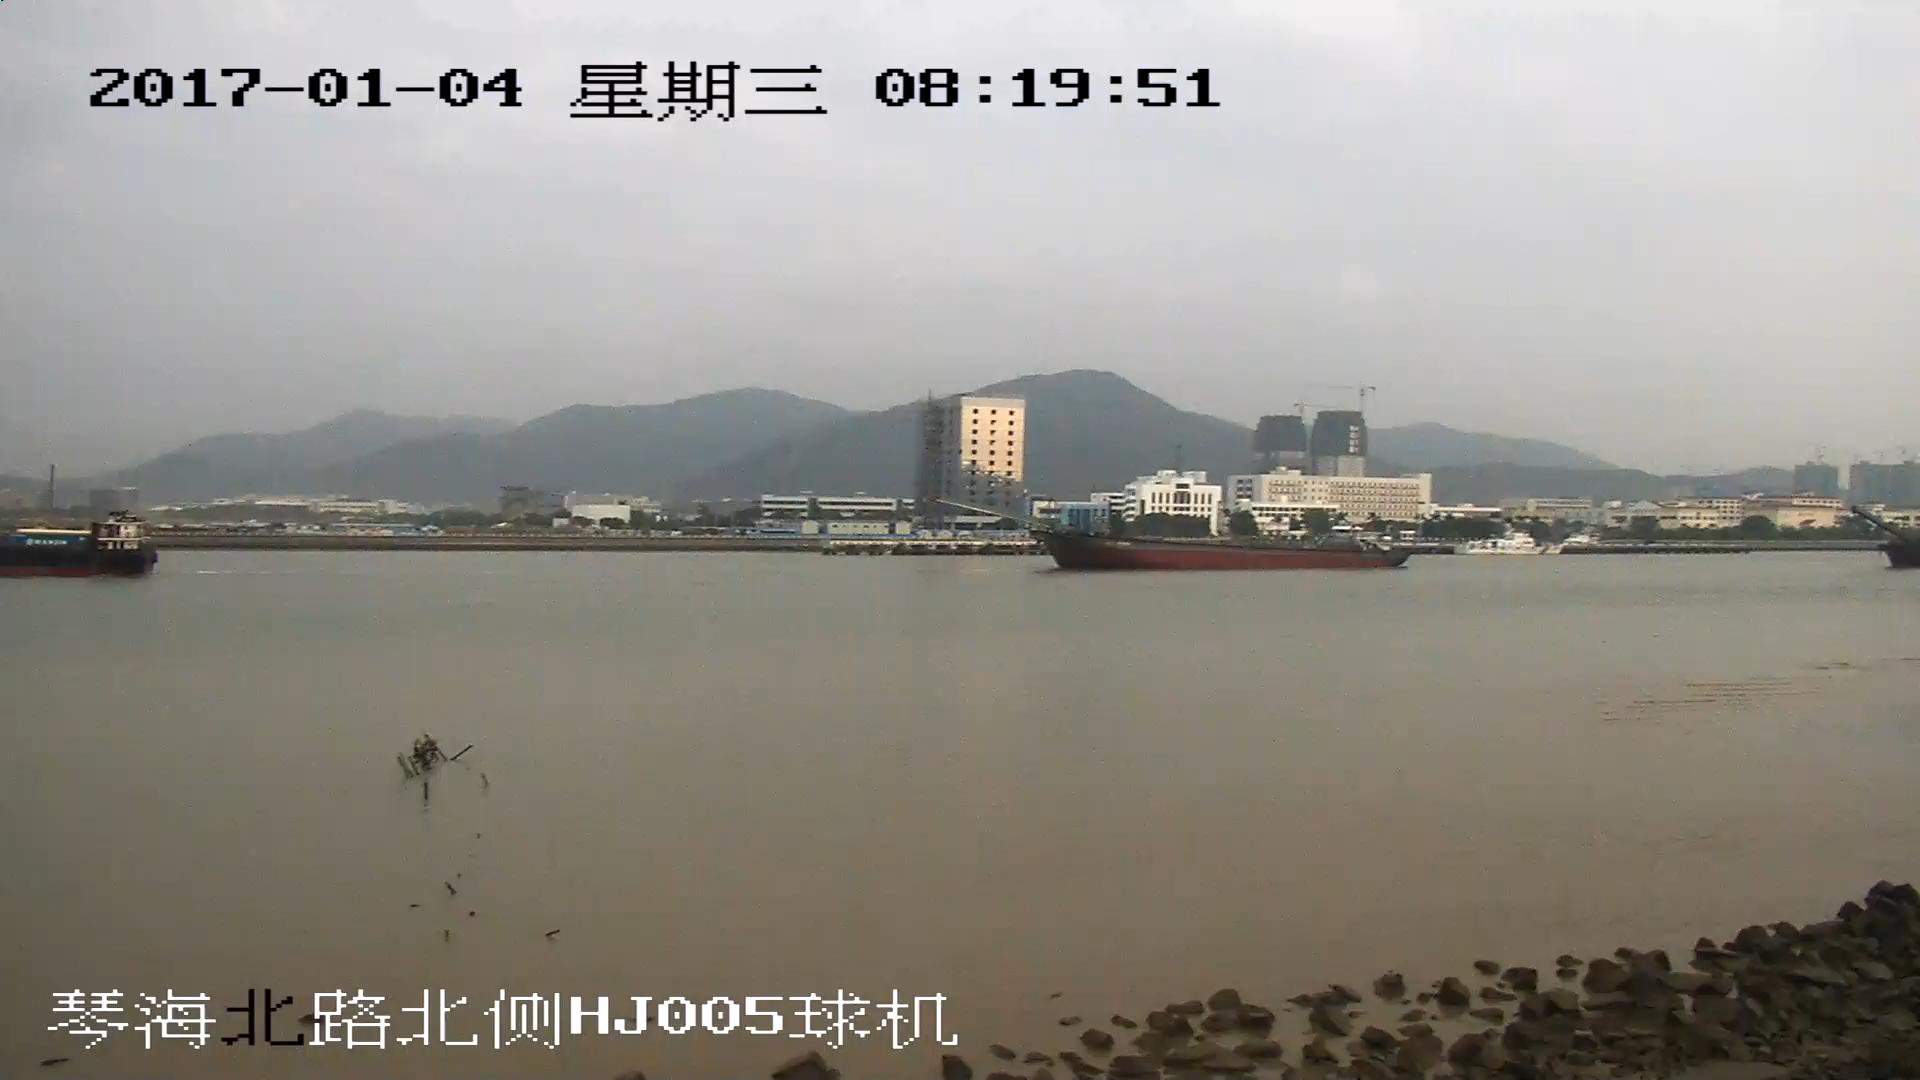bulk cargo carrier: (941, 497, 1407, 567)
container ship: (1, 516, 156, 577)
